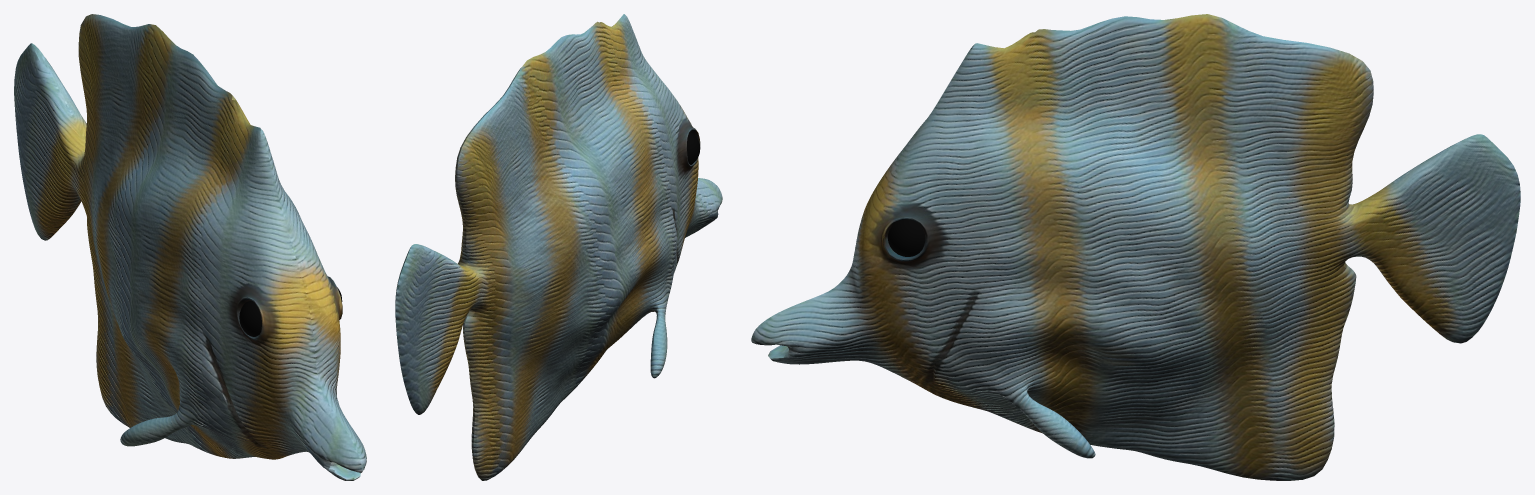
The model's file is pez.glb.
3 renders of one model, left to right at view 1: azimuth 30°, elevation 25°; view 2: azimuth 150°, elevation 25°; view 3: azimuth 270°, elevation 25°, orthographic. The views are drawn at different scales.
Visible parts, largest first — view 1: ButterflyFishBase; view 2: ButterflyFishBase; view 3: ButterflyFishBase.
Part boxes in pixels (x1=…): ButterflyFishBase: x1=14, y1=14, x2=366, y2=480; ButterflyFishBase: x1=395, y1=14, x2=722, y2=480; ButterflyFishBase: x1=751, y1=14, x2=1520, y2=480.
Size of the model in its own units: 0.1349 by 0.3055 by 0.4563.
Materials: 2 (1 with a texture image).
